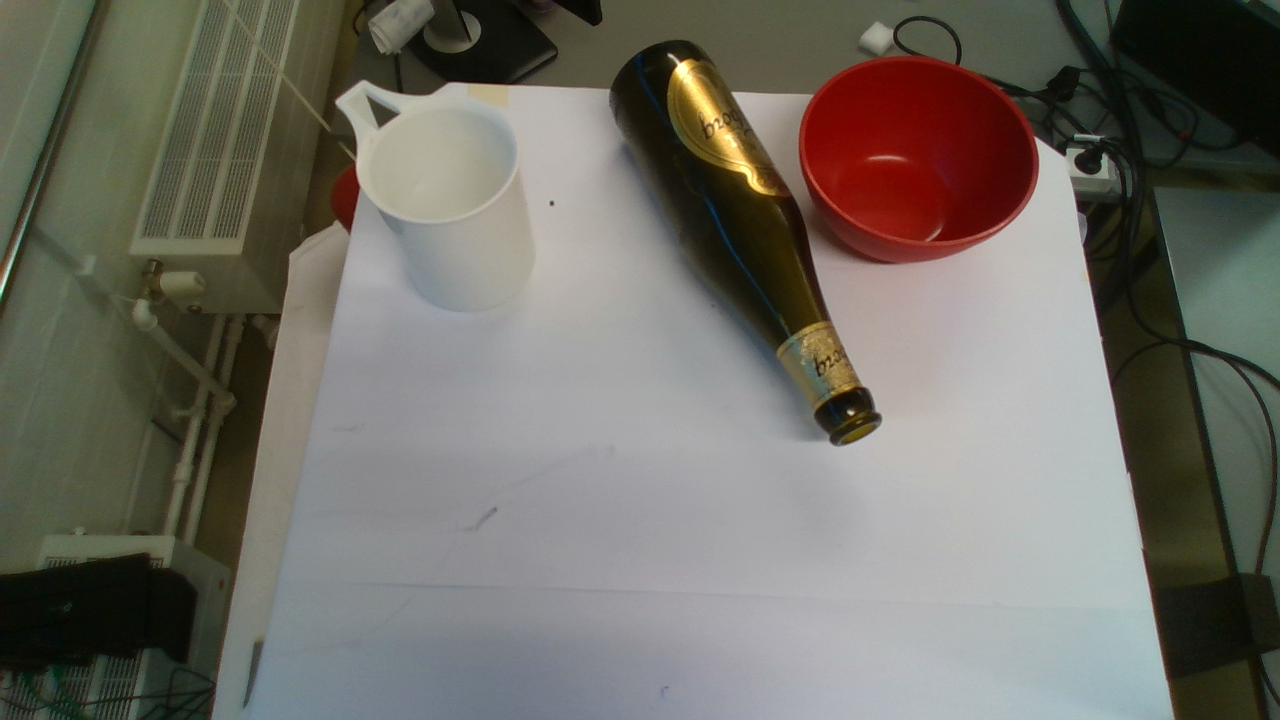bottle: (608, 37, 880, 447)
bowl: (797, 60, 1039, 267)
cup: (333, 77, 537, 317)
